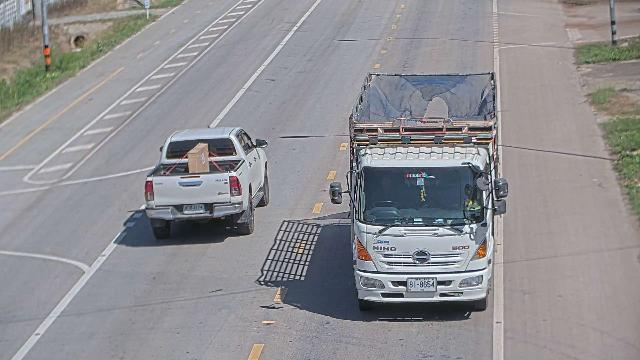pickup-truck: (143, 126, 270, 239)
truck: (344, 72, 500, 315)
